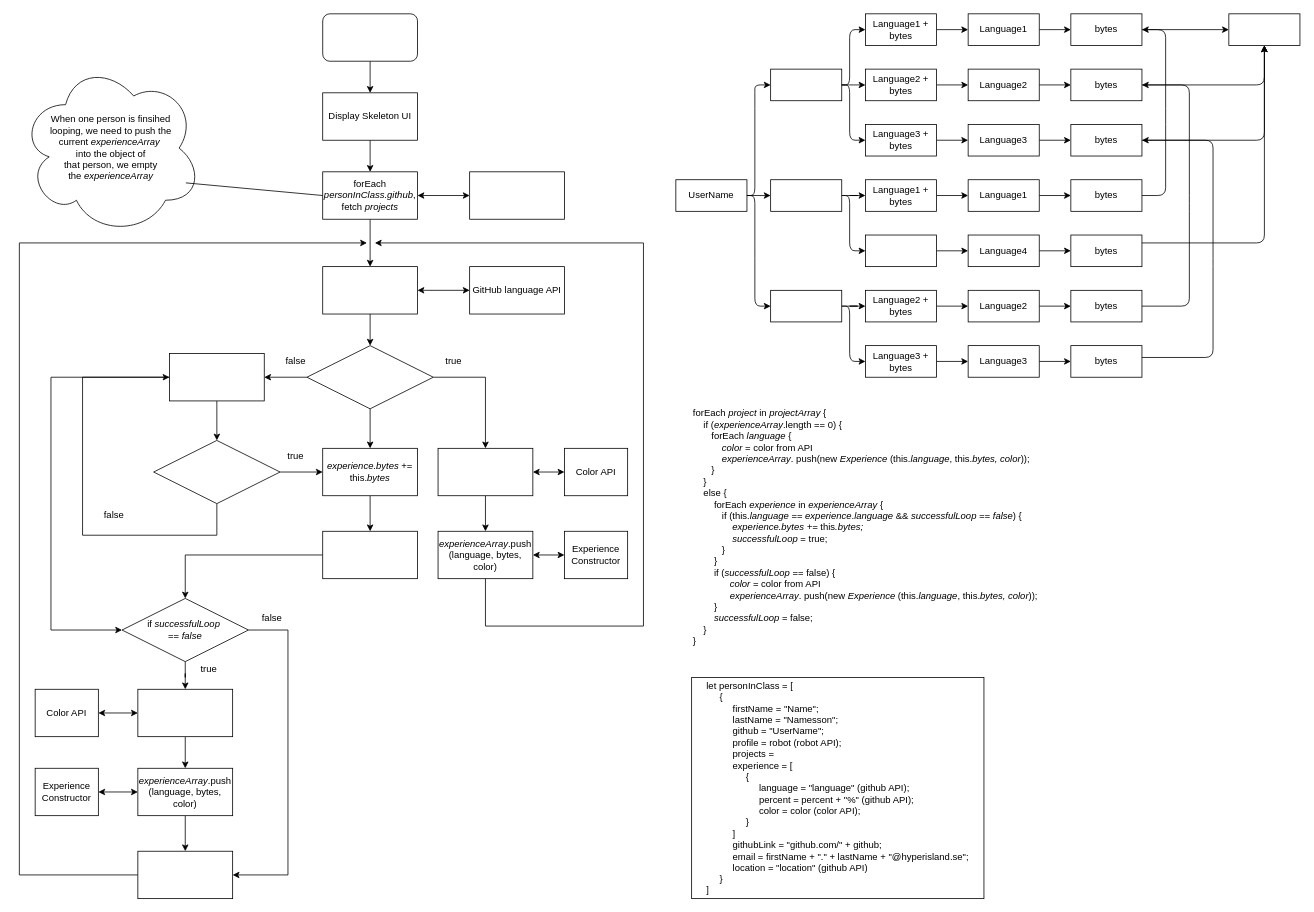
This 1314x912 diagram has some shape labels left out. Each missing label, with the centre of its shape:
experienceArray: point (1264, 29)
fetch color: point (185, 712)
forEach experience in experienceArray, compare language: point (216, 377)
forEach language , fetch color: point (485, 472)
forEach project , fetch languages: point (370, 290)
GitHub API: point (516, 195)
if experienceArray .length == 0: point (369, 377)
if this. language == experience.language && successfulLoop == false: point (216, 472)
Language4 + bytes: point (901, 250)
Project1: point (806, 84)
Project2: point (806, 195)
Project3: point (806, 306)
Start: point (370, 37)
successfulLoop = false: point (185, 874)
successfulLoop = true: point (370, 554)
